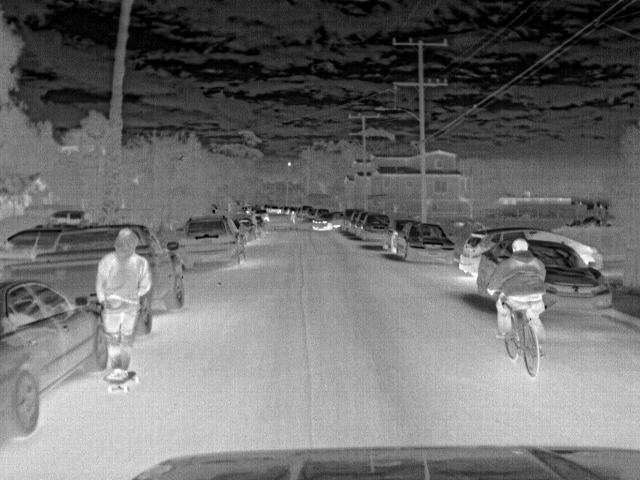car: (2, 278, 106, 440), (2, 228, 120, 306), (531, 237, 612, 313), (138, 222, 190, 310), (169, 218, 243, 266), (394, 220, 459, 264), (474, 240, 517, 294), (457, 228, 497, 276), (360, 211, 396, 243), (311, 211, 346, 231), (49, 210, 85, 229), (236, 217, 257, 242), (340, 207, 358, 234), (352, 213, 368, 238), (297, 204, 312, 220), (253, 208, 271, 221)
person: (96, 225, 155, 381), (484, 236, 548, 351), (290, 209, 300, 228)
